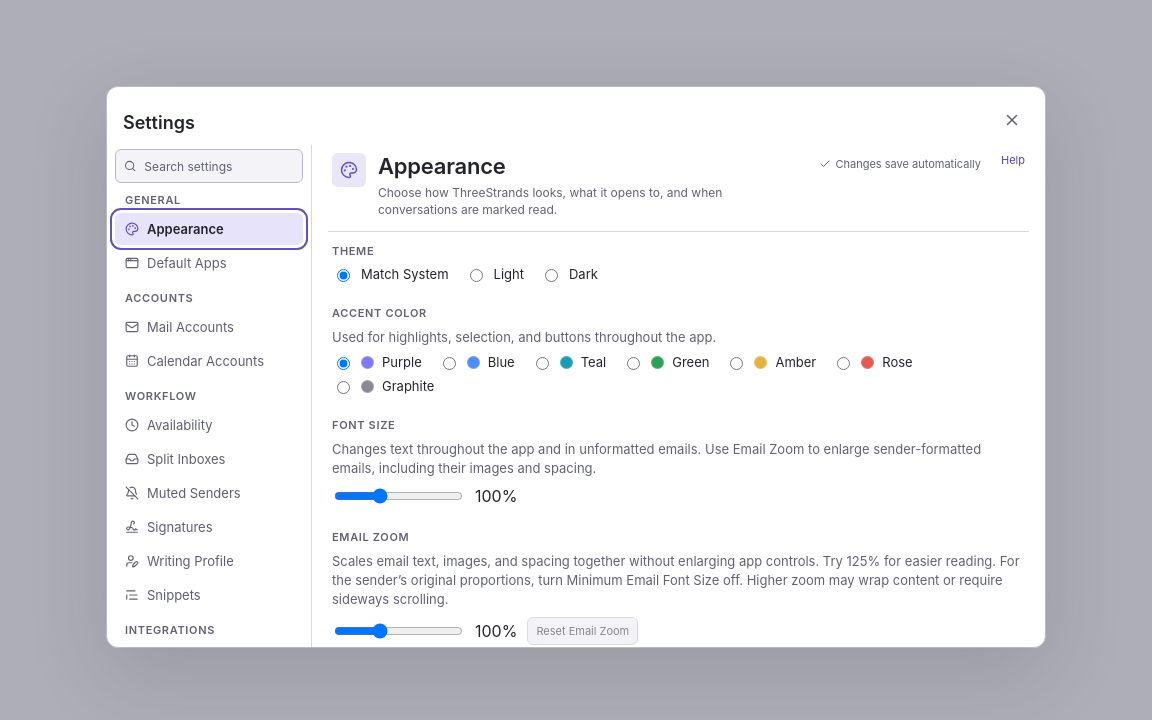
Scenario: settings section navigation › searches for IMAP setup in Mail Accounts
This screenshot has width=1152, height=720.
Type "IMAP" into the search field labelled "Search settings" at [219, 166], box [144,159,294,174]
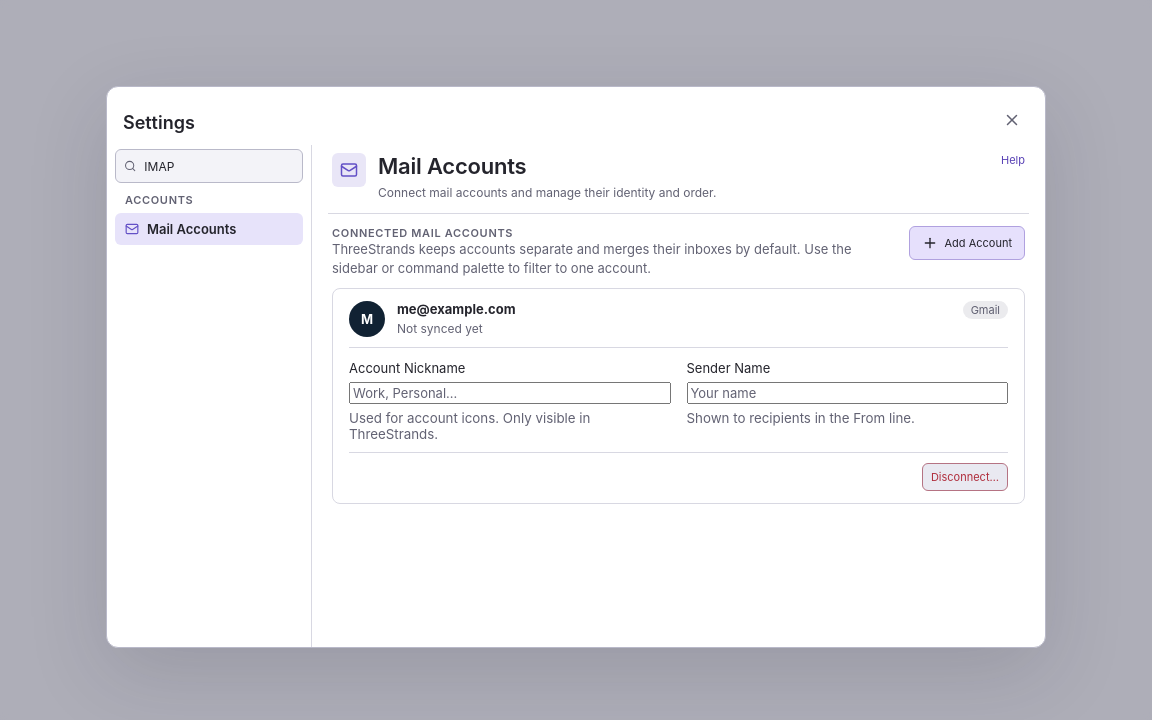
Now the button "Add Account" is shown, box [910,226,1025,260]
